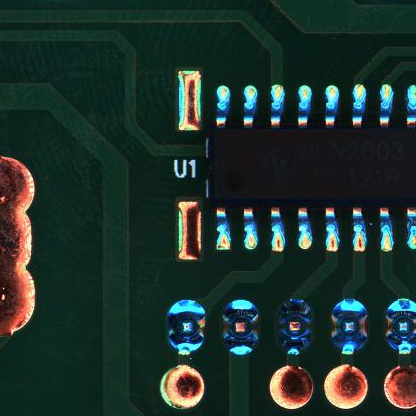spot: (328, 296, 369, 358), (166, 299, 205, 358), (220, 299, 258, 357), (276, 298, 313, 355), (384, 296, 416, 356)
